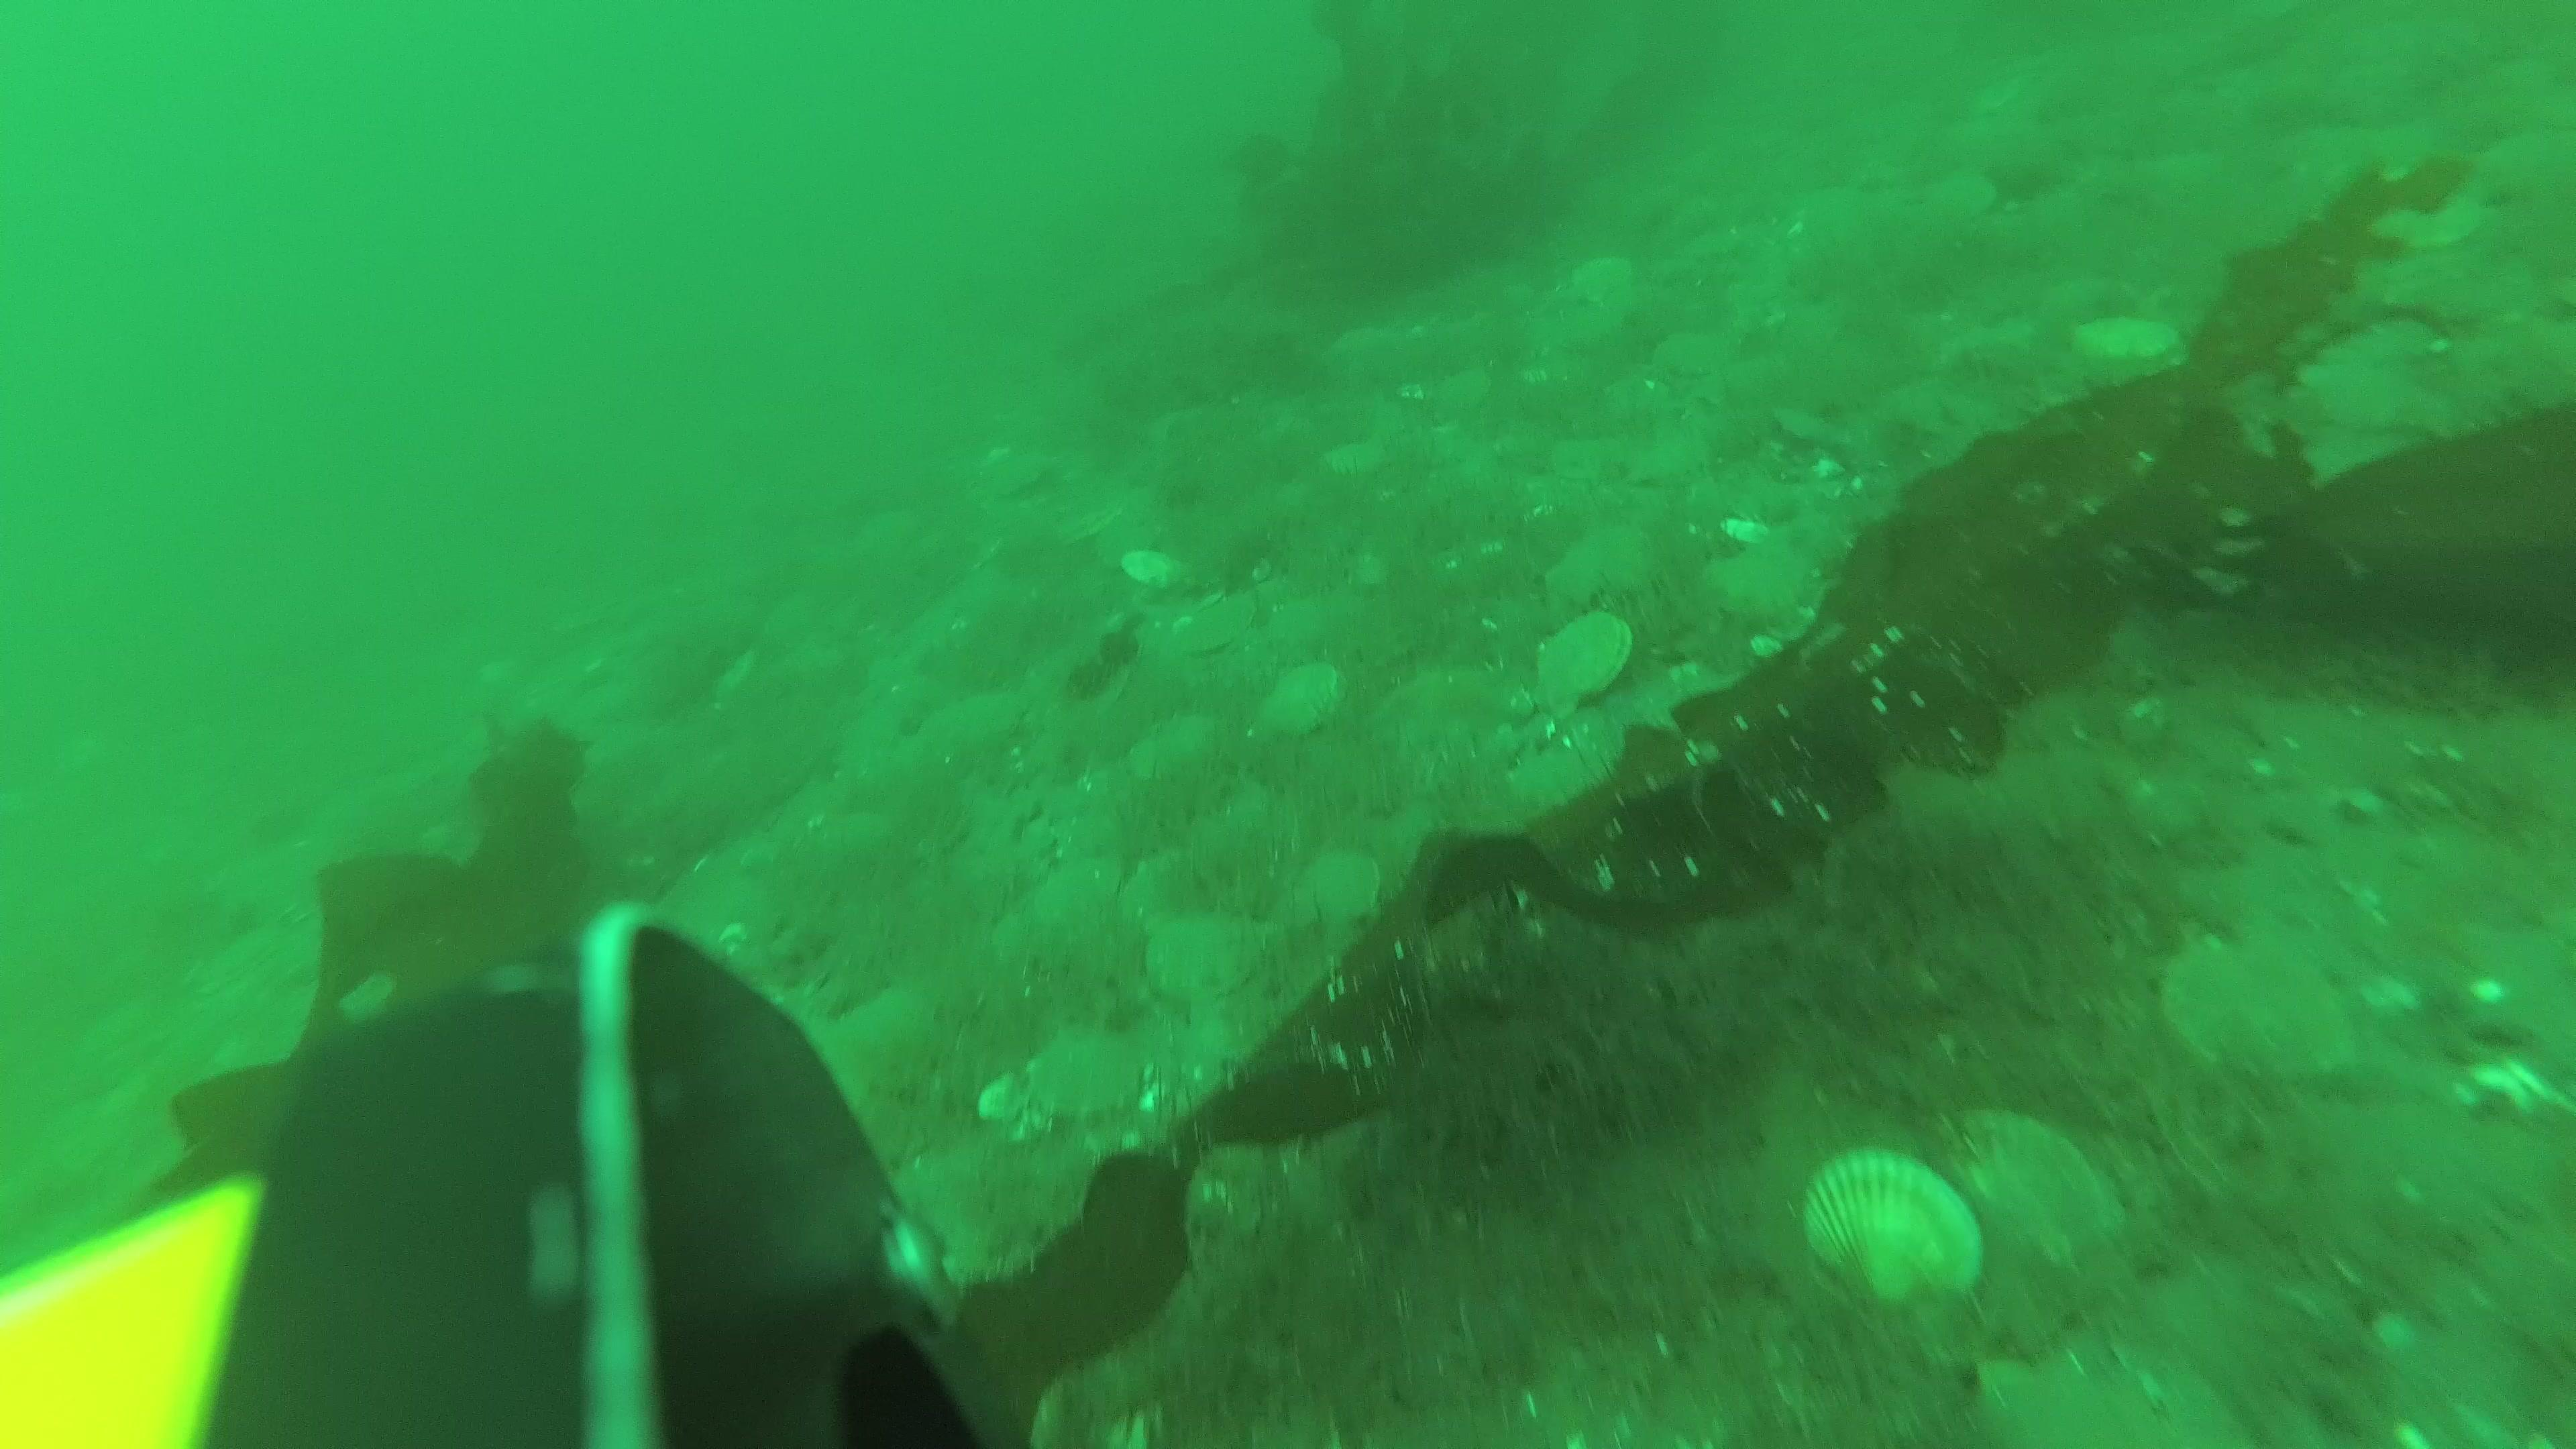scallop: (1806, 1146, 1982, 1313), (1955, 1099, 2114, 1279), (2153, 934, 2350, 1079), (1021, 1028, 1148, 1129), (1148, 902, 1263, 1008), (1700, 536, 1821, 637), (1537, 609, 1635, 711), (2074, 310, 2192, 387), (1295, 847, 1387, 938), (918, 694, 1028, 764), (1260, 665, 1352, 748), (1031, 851, 1122, 925), (1656, 327, 1737, 391), (1182, 593, 1258, 658)
